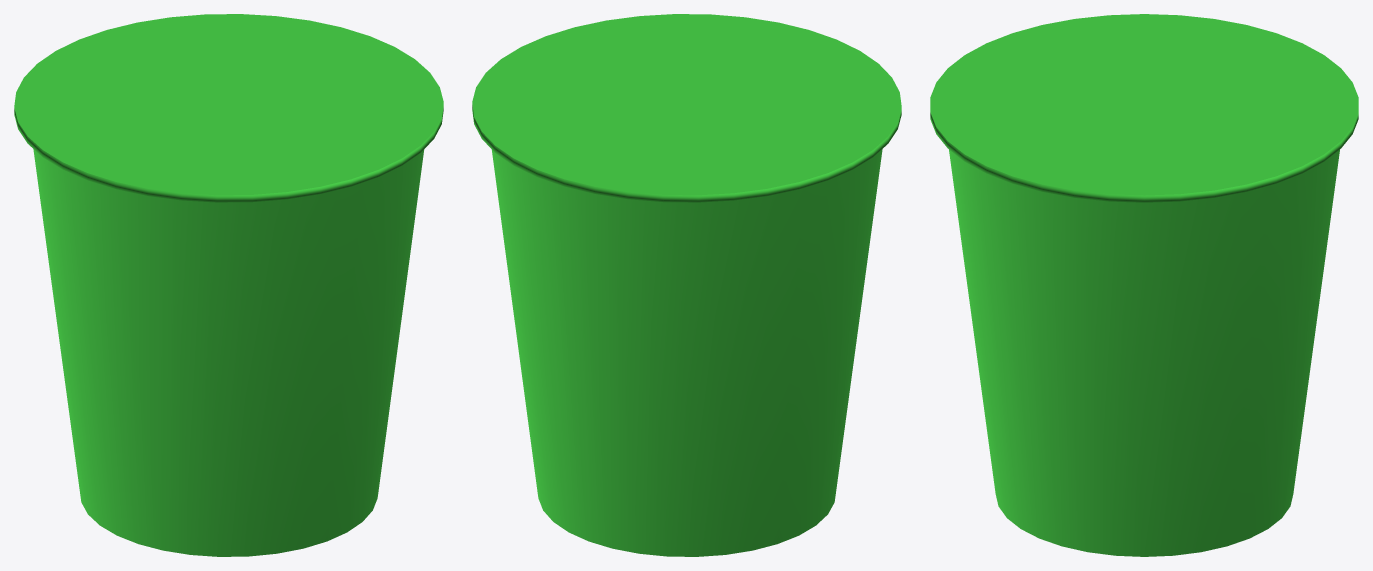
The model's file is work.dae.
3 renders of one model, left to right at view 1: azimuth 30°, elevation 25°; view 2: azimuth 150°, elevation 25°; view 3: azimuth 270°, elevation 25°, orthographic.
Parts seen in each view (by area): view 1: Untitled; view 2: Untitled; view 3: Untitled.
Boxes of the visible parts, x1,y1,x2,y2 form: Untitled: (14,14,443,556); Untitled: (472,14,901,556); Untitled: (930,14,1358,556).
Size of the model in its own units: 0.088 by 0.0877 by 0.088.
